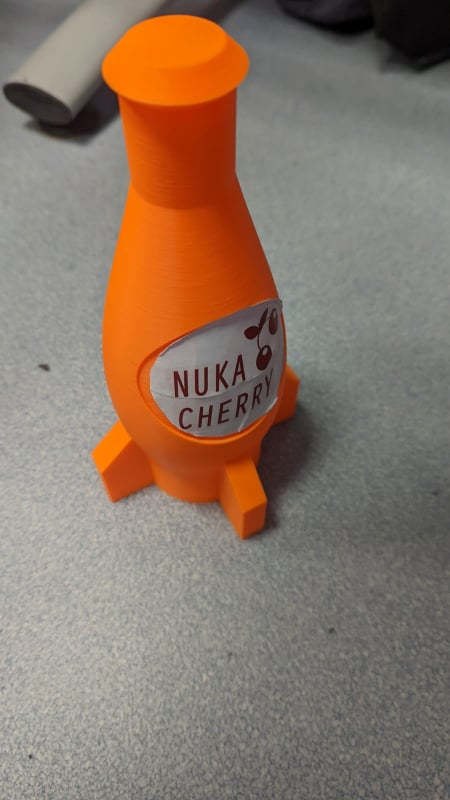bottle: (80, 14, 308, 546)
